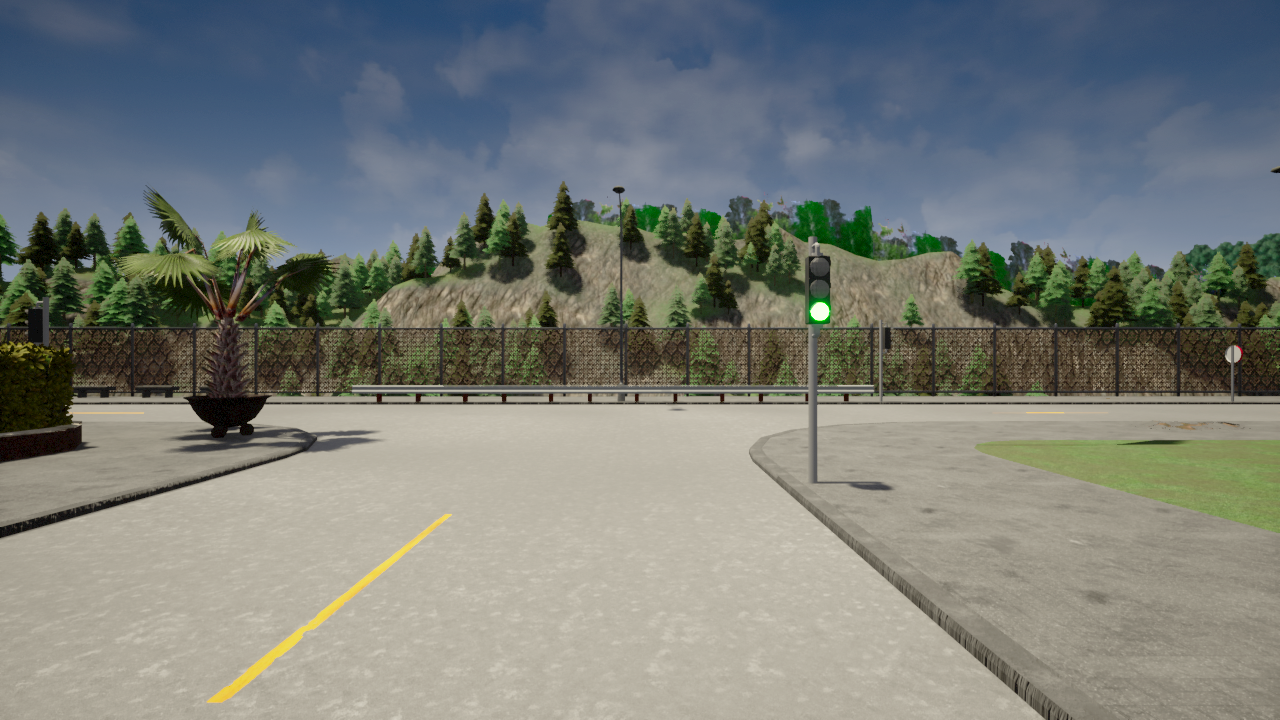green: (803, 253, 833, 326)
